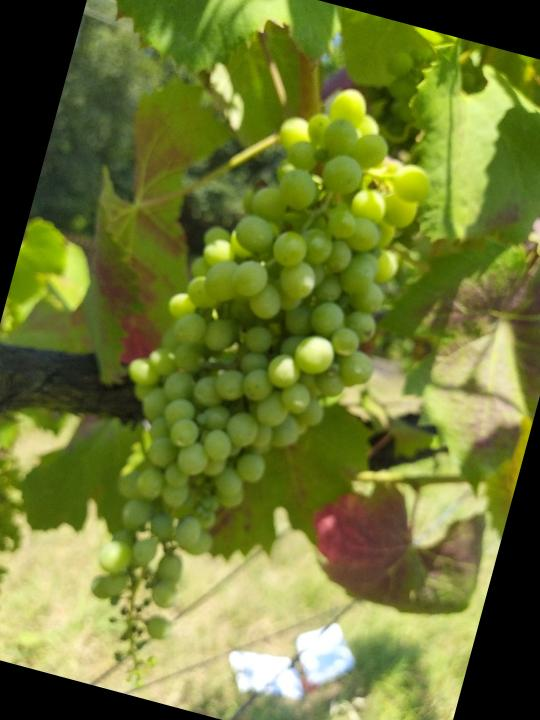grape: (47, 46, 458, 720)
